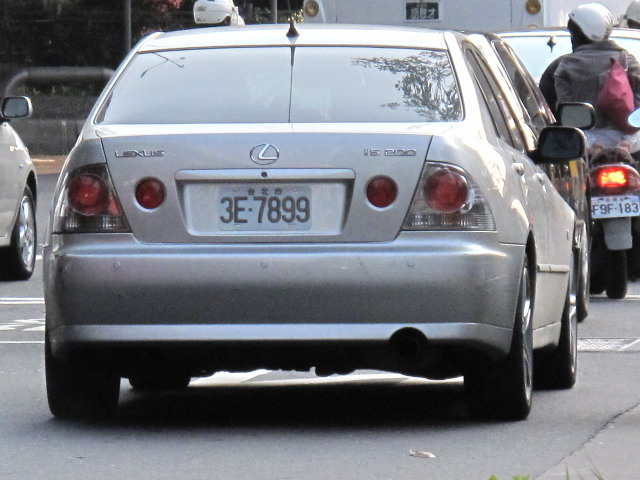plate: (216, 183, 315, 231), (585, 190, 639, 220)
